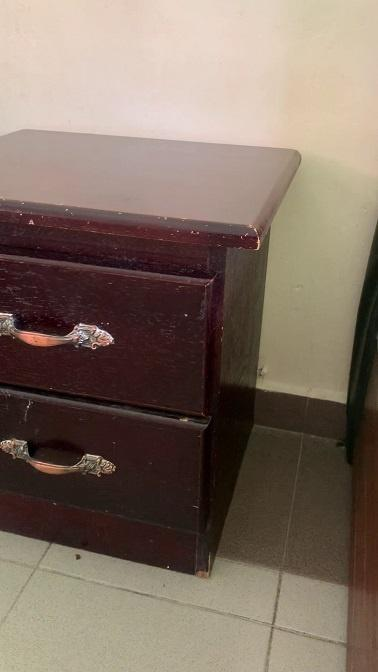cabinet_door: (1, 266, 203, 376), (0, 397, 195, 498)
handle: (0, 307, 119, 357), (0, 435, 121, 484)
